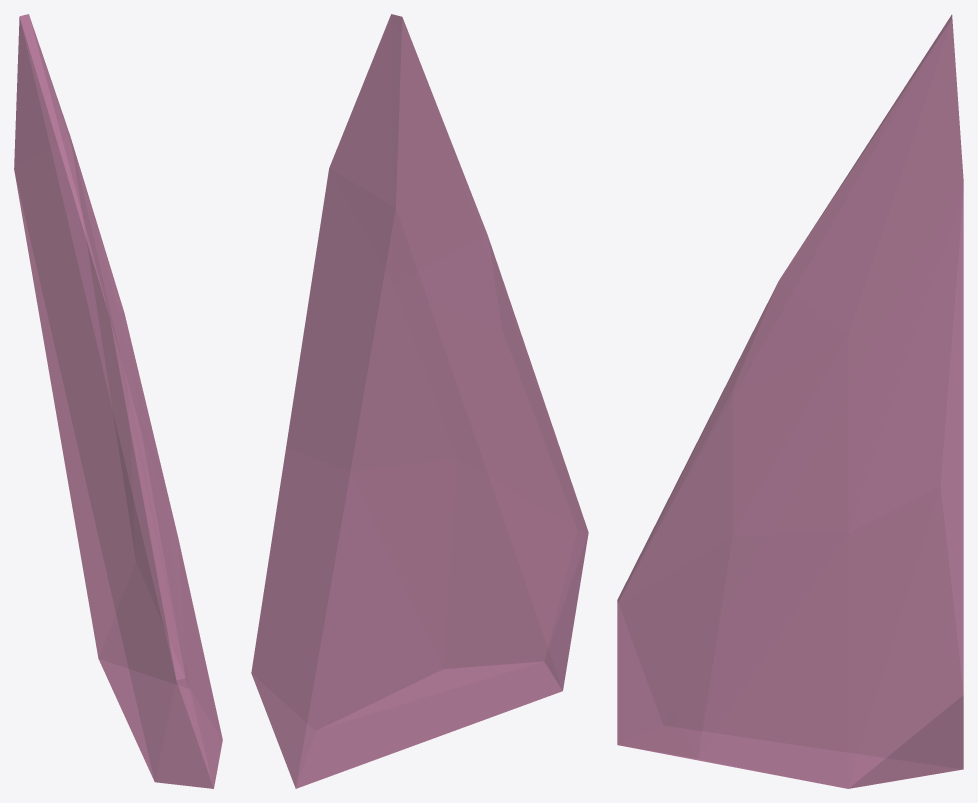
3 views of the same model, side by side, from view 1: azimuth 30°, elevation 25°; view 2: azimuth 150°, elevation 25°; view 3: azimuth 270°, elevation 25° (orthographic). The views are drawn at different scales.
Visible parts, largest first — view 1: Shape_IndexedFaceSet.037_Shape_IndexedFaceSet.2002; view 2: Shape_IndexedFaceSet.037_Shape_IndexedFaceSet.2002; view 3: Shape_IndexedFaceSet.037_Shape_IndexedFaceSet.2002.
Boxes of the visible parts, x1,y1,x2,y2 form: Shape_IndexedFaceSet.037_Shape_IndexedFaceSet.2002: (14, 14, 222, 788); Shape_IndexedFaceSet.037_Shape_IndexedFaceSet.2002: (251, 14, 588, 788); Shape_IndexedFaceSet.037_Shape_IndexedFaceSet.2002: (617, 14, 963, 788).
Size of the model in its own units: 0.0691 by 0.3617 by 0.1596.
